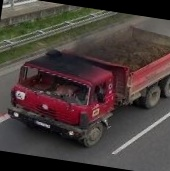truck: (5, 9, 170, 161)
